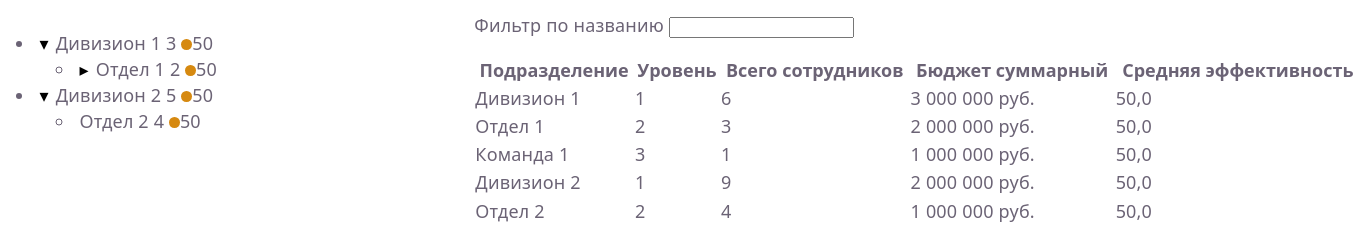
Test: OrgTreeScreen: выделение узла по клику на строку › после обновления данных › не раскрывает ветку, которую пользователь свернул после выделения
Click the row "Команда 1 3 1 1 000 000 руб. 50,0". click: (918, 154)
box: [474,140,1360,168]
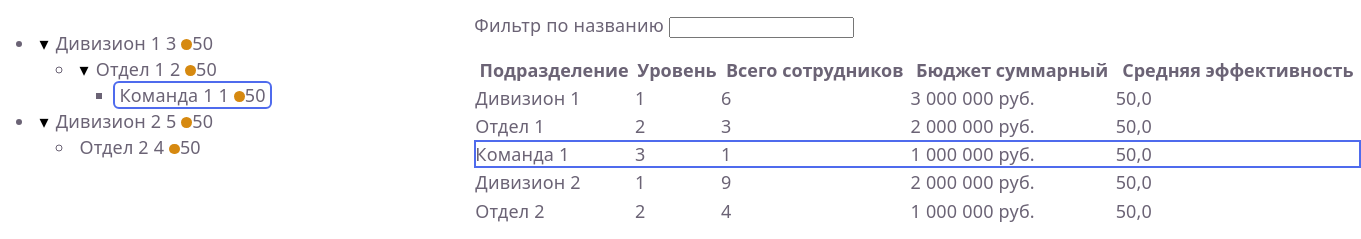
Click the button named "Свернуть Отдел 1". click: (84, 69)
box: [80,56,88,82]
Wait 5100 ms
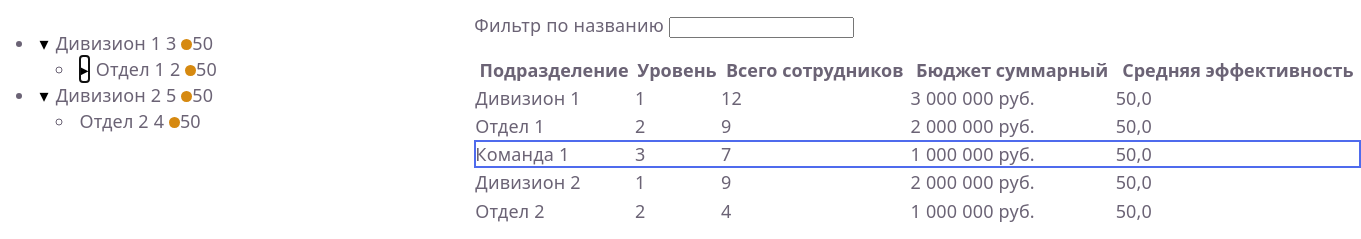
Check: the cell "7" is shown, box [720,140,910,168]
Check: the button named "Развернуть Отдел 1" is shown, box [80,56,88,82]
